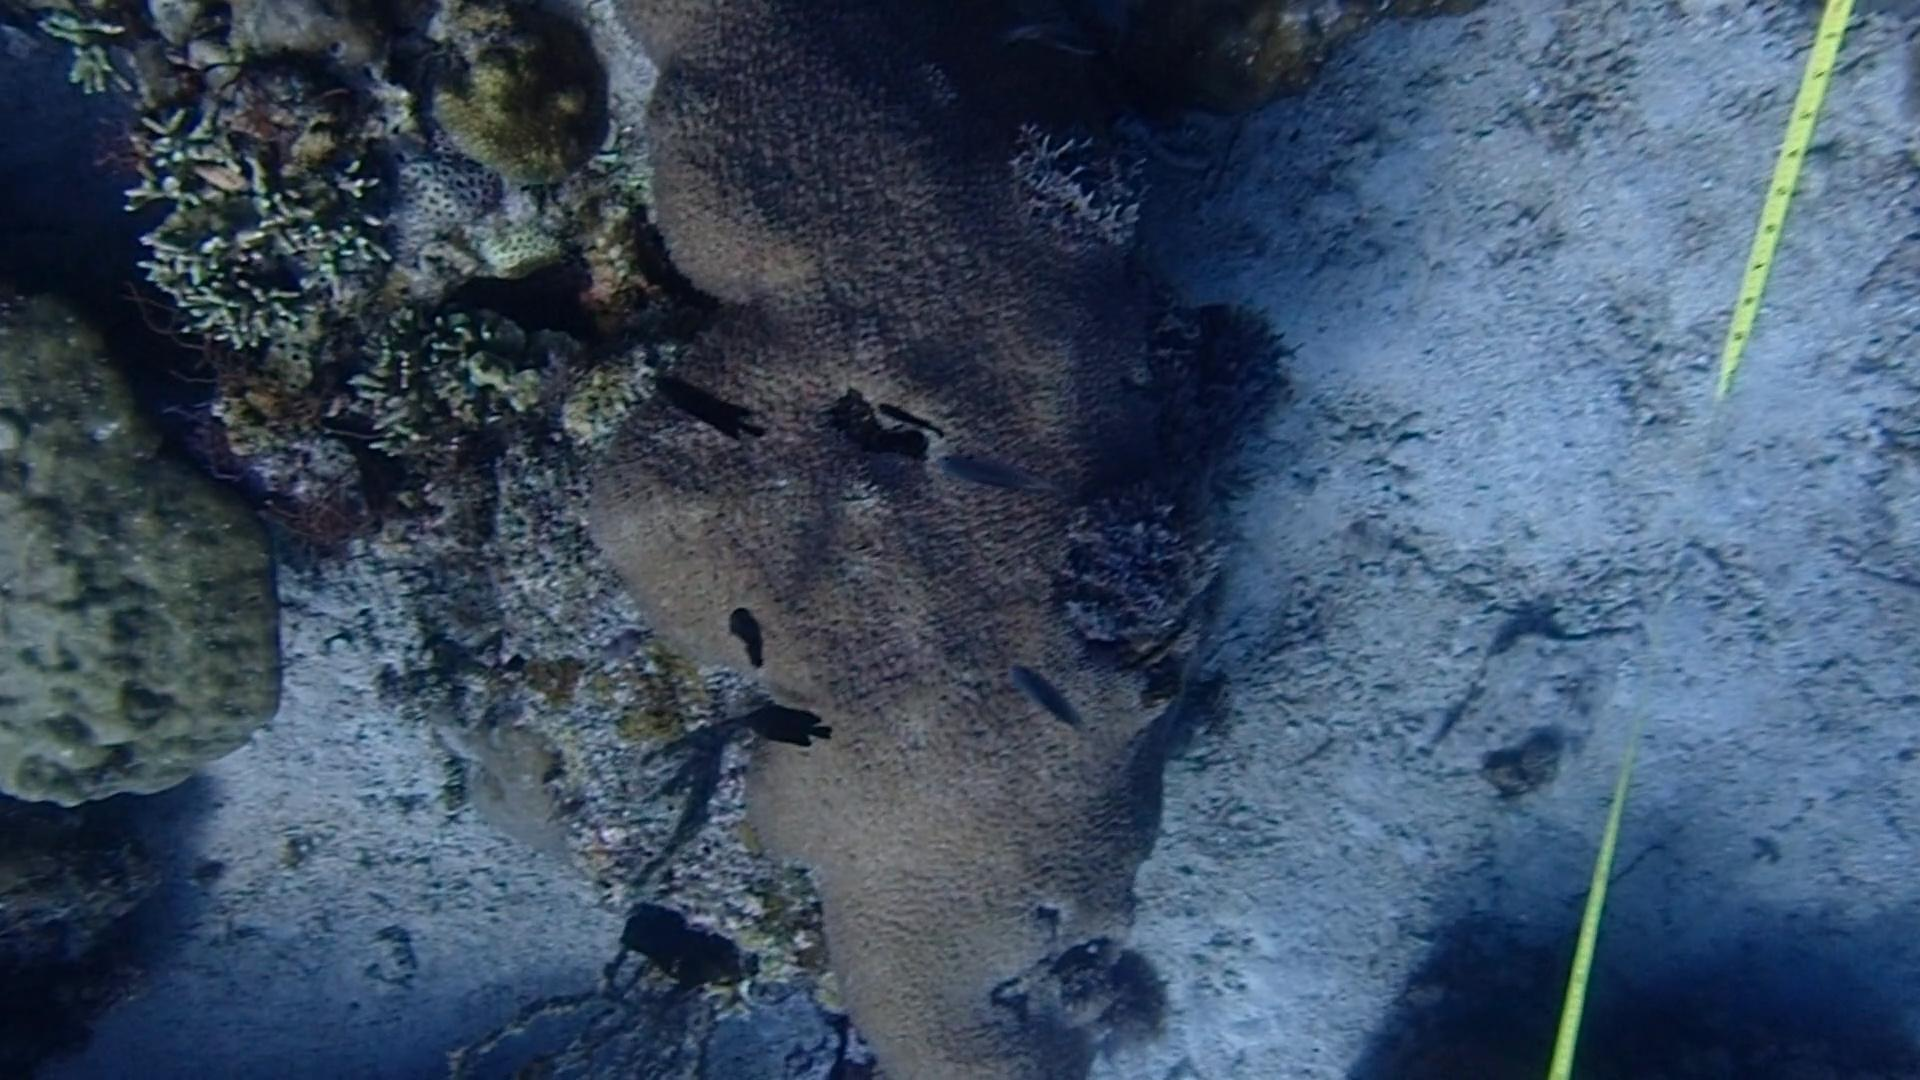Dark Fish: (630, 372, 769, 447), (720, 690, 843, 769), (708, 596, 786, 676), (874, 400, 956, 431)
Light Fish: (932, 444, 1042, 513), (984, 3, 1105, 61), (994, 663, 1088, 738)
